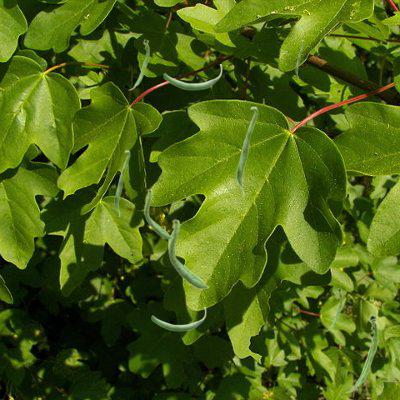french_bean: (168, 218, 208, 288), (345, 314, 377, 392), (236, 106, 257, 196), (163, 64, 221, 89), (144, 188, 172, 238), (151, 307, 205, 330), (128, 39, 148, 89), (114, 150, 129, 216), (325, 288, 341, 330), (295, 40, 303, 78)
